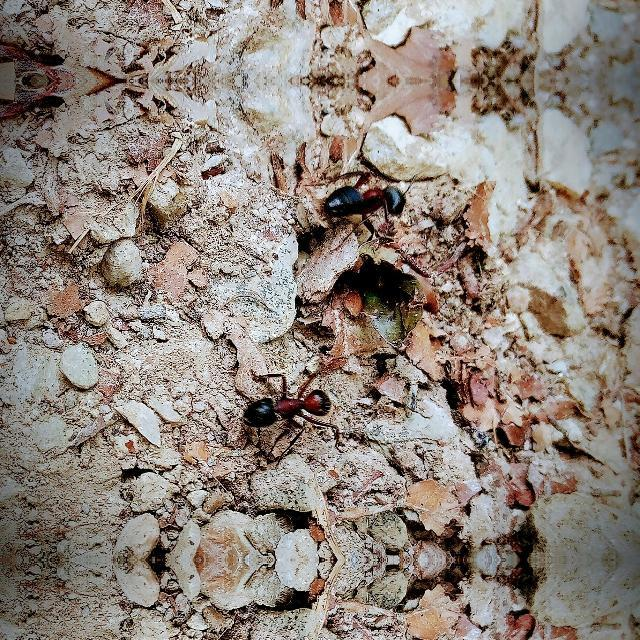Camponotus: (228, 372, 346, 444), (312, 169, 416, 229)
